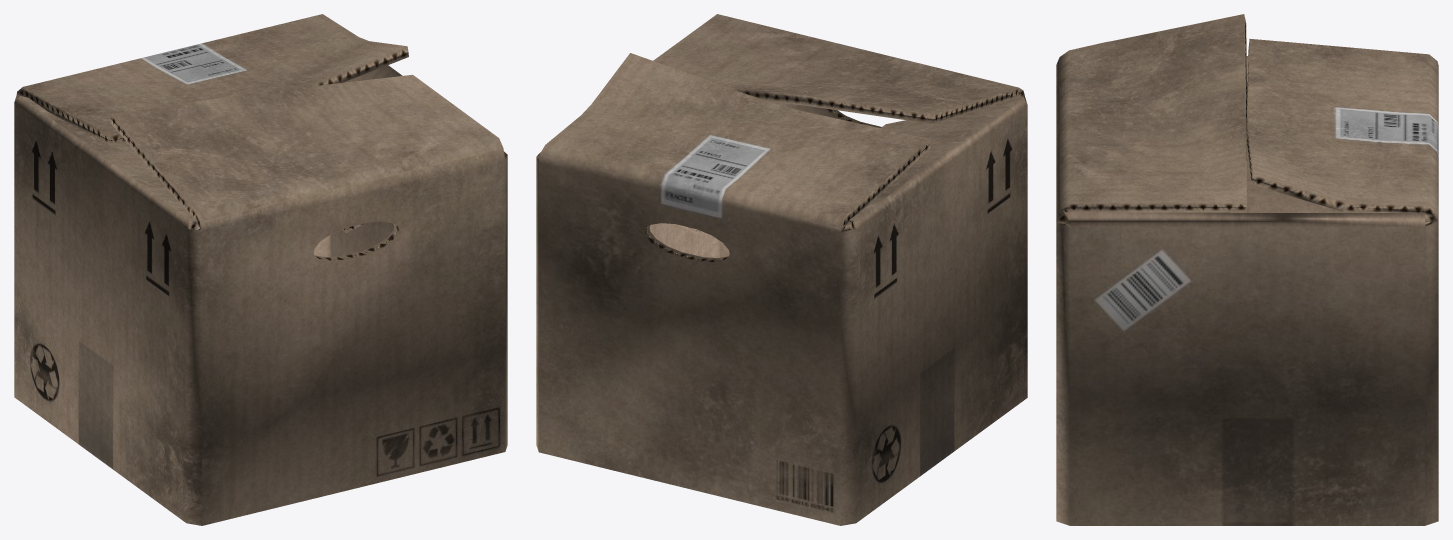
Rendered from carton_box_04_closed.glb.
3 views of the same model, side by side, from view 1: azimuth 30°, elevation 25°; view 2: azimuth 150°, elevation 25°; view 3: azimuth 270°, elevation 25° (orthographic). The views are drawn at different scales.
Parts seen in each view (by area): view 1: Carton; view 2: Carton; view 3: Carton.
Part boxes in pixels (x1,y1,x2,y2): Carton: (14,14,507,525); Carton: (536,14,1027,525); Carton: (1056,14,1438,525).
Size of the model in its own units: 37.78 by 38.76 by 37.78.
1 material, 1 textured.
